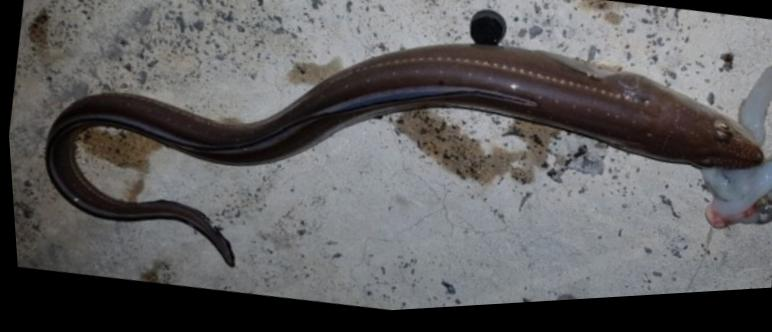fish: (43, 51, 762, 269)
